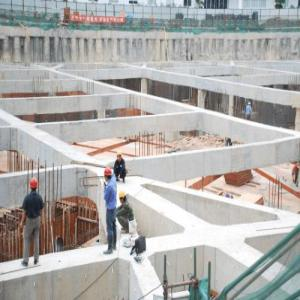red: (105, 166, 113, 182), (31, 178, 39, 191)
yellow: (120, 191, 127, 204), (116, 150, 122, 161)
